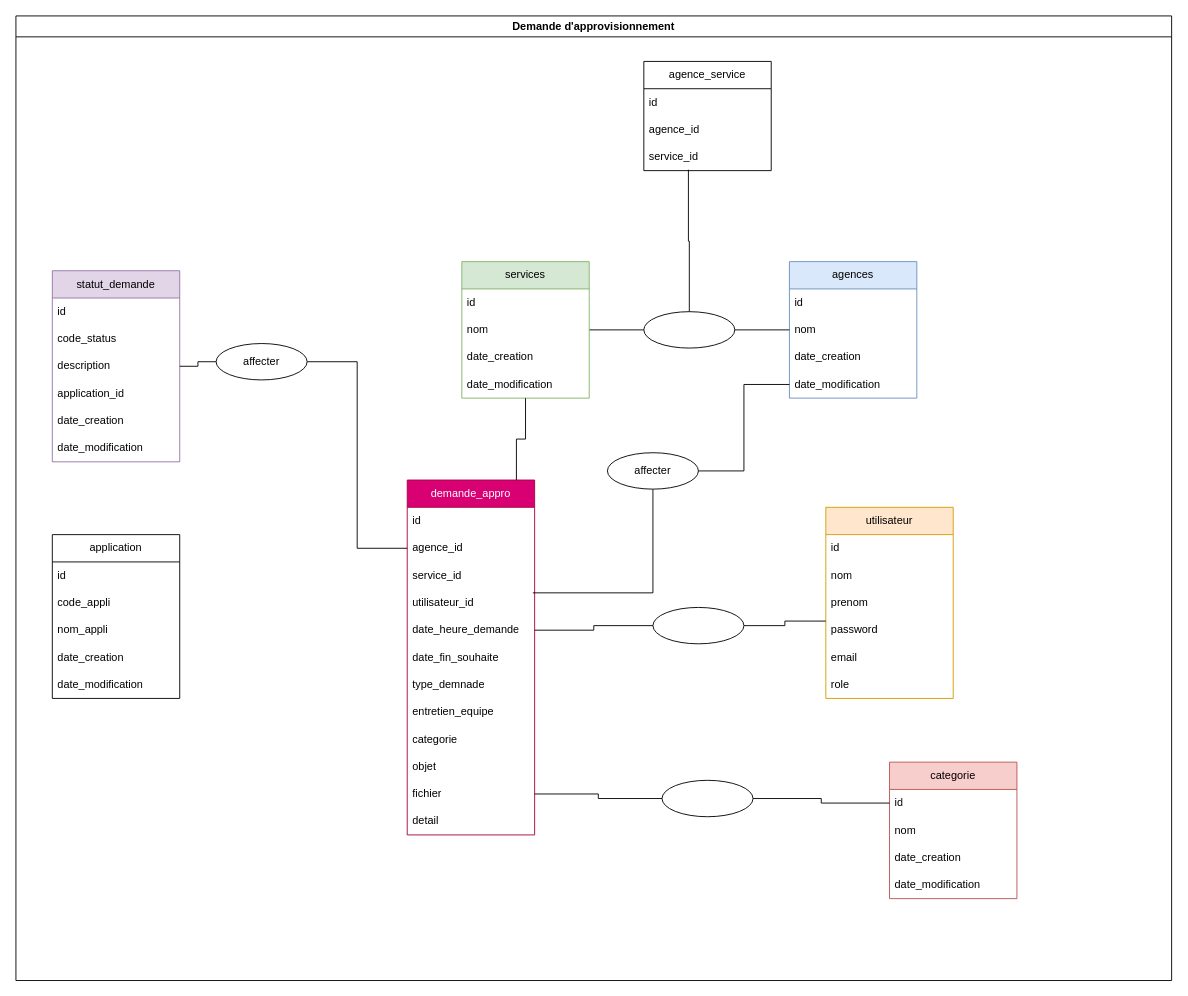
This 1188x996 diagram has some shape labels left out. The shapes that lost their labels are listed below. From the top down, each one's centre as x and y in pixels, then its label:
At point 689,329: "avoir".
At point 698,625: "créer".
At point 707,798: "appartenir".
